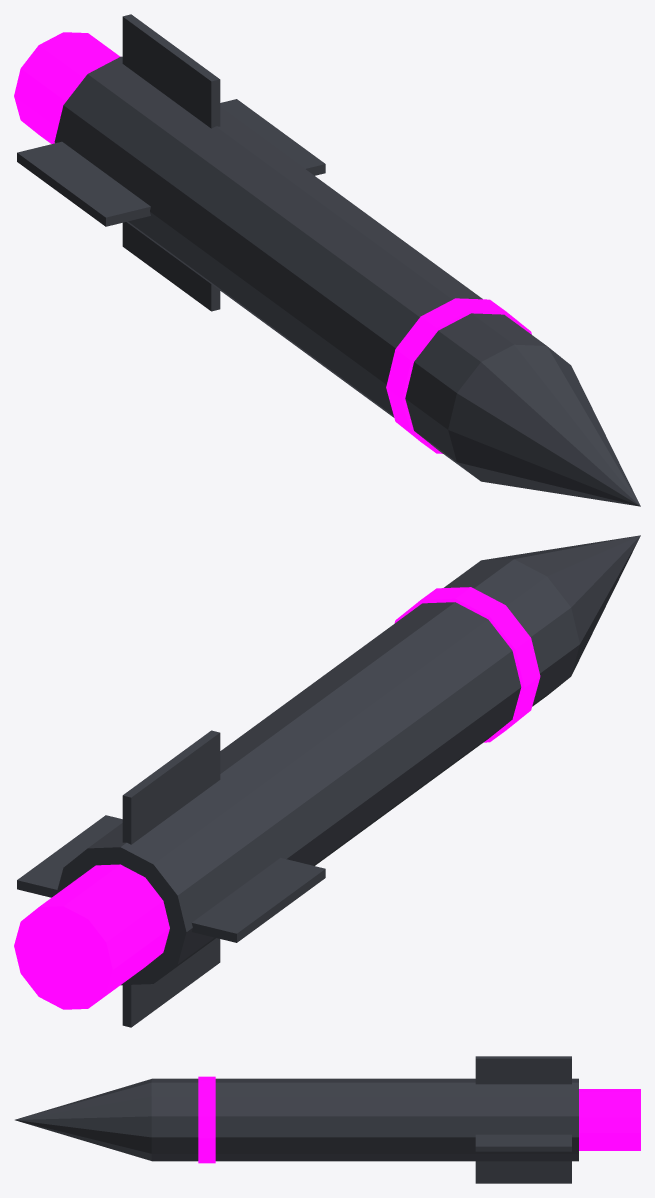
File: HeliMissile.fbx
3 views of the same model, one above another, from view 1: azimuth 30°, elevation 25°; view 2: azimuth 150°, elevation 25°; view 3: azimuth 270°, elevation 25° (orthographic). The views are drawn at different scales.
Visible parts, largest first — view 1: HeliMissile; view 2: HeliMissile; view 3: HeliMissile.
Part boxes in pixels (x1,y1,x2,y2): HeliMissile: (14,14,640,506); HeliMissile: (14,535,640,1027); HeliMissile: (15,1056,640,1183).
Bounding box in the file's own units: 0.2 × 0.2 × 0.91.
